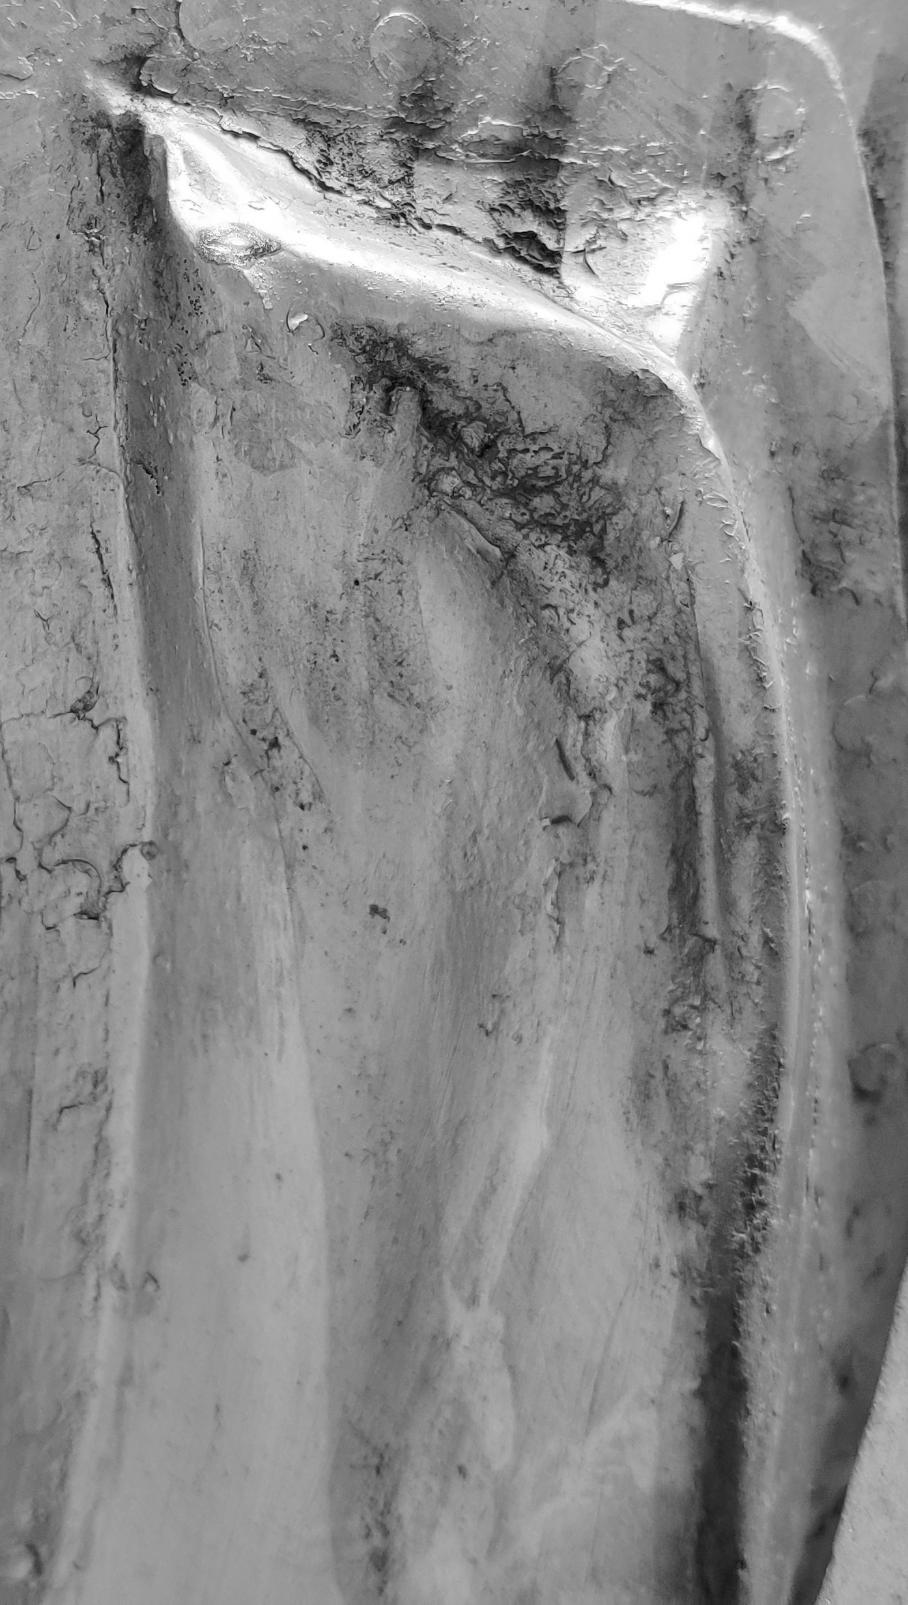dent: (0, 1, 908, 1605)
